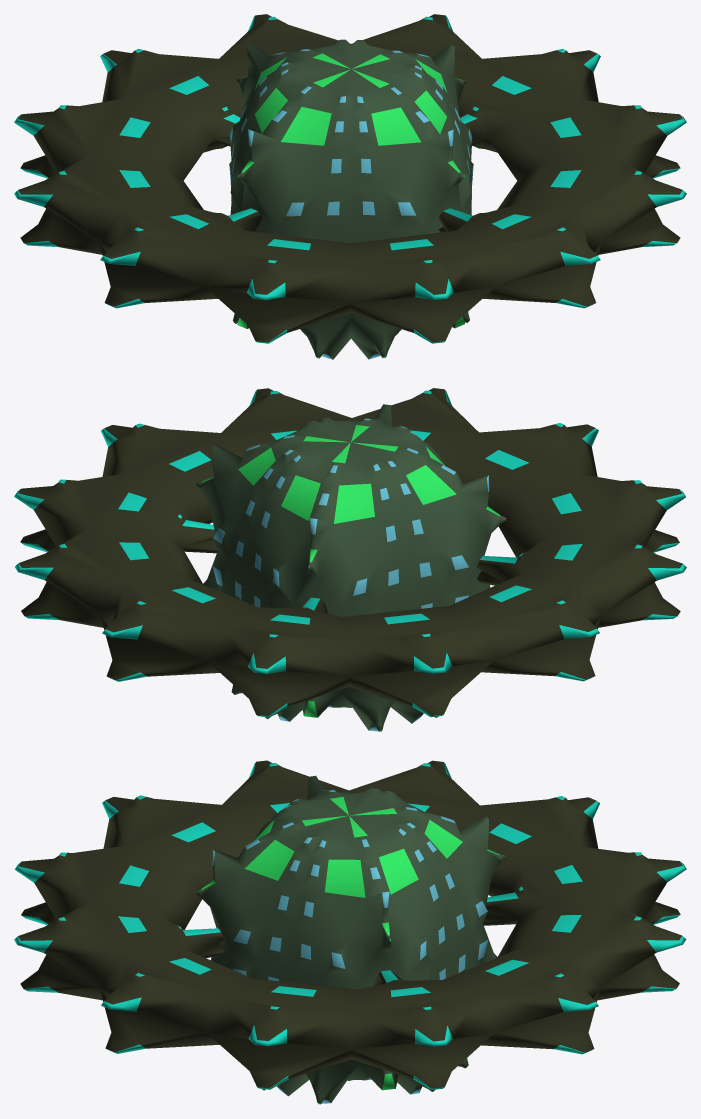
File: station1.dae
3 views of the same model, one above another, from view 1: azimuth 30°, elevation 25°; view 2: azimuth 150°, elevation 25°; view 3: azimuth 270°, elevation 25° (orthographic).
Visible parts, largest first — view 1: docking_ring, station; view 2: docking_ring, station; view 3: docking_ring, station.
Part boxes in pixels (left/top/right/bottom): docking_ring: left=14, top=14, right=686, bottom=343; station: left=229, top=39, right=473, bottom=359; docking_ring: left=14, top=388, right=686, bottom=717; station: left=196, top=404, right=505, bottom=731; docking_ring: left=14, top=760, right=686, bottom=1089; station: left=195, top=775, right=505, bottom=1104.
Bounding box in the file's own units: 9.63 × 9.63 × 4.24.
